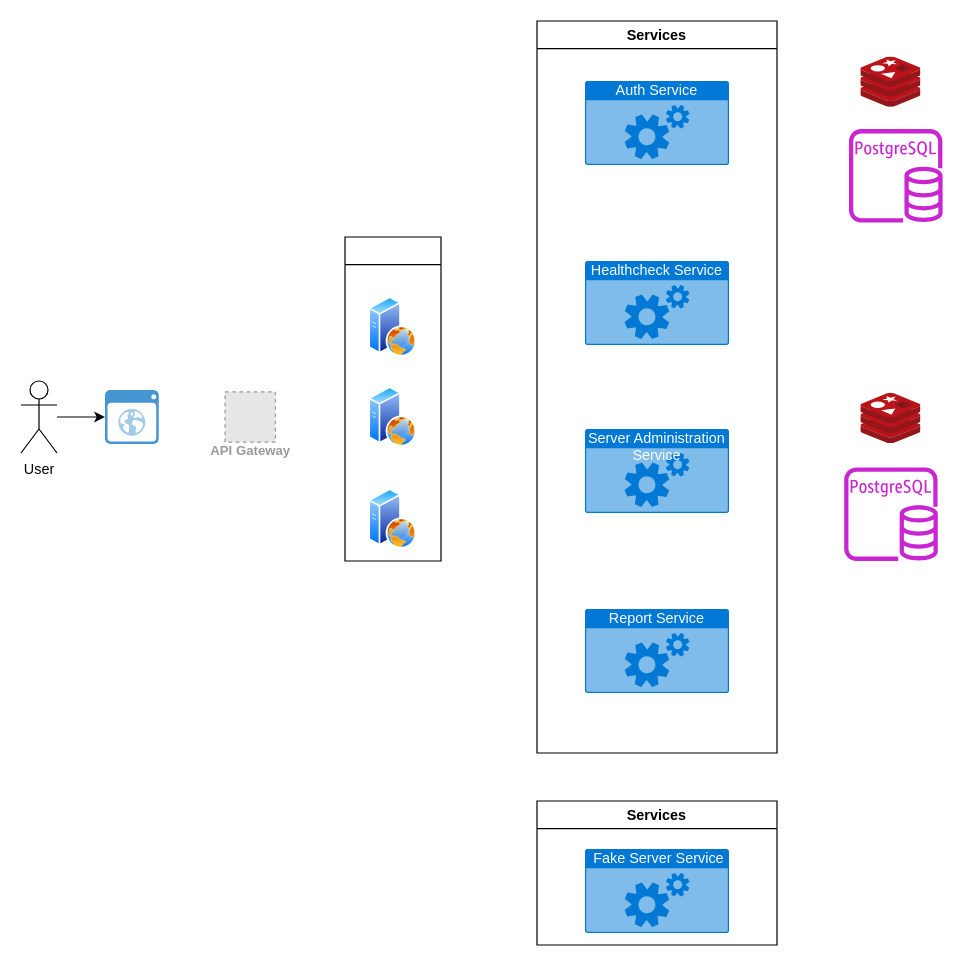
This 964x966 diagram has some shape labels left out. Grey dashed boxes stand in for pictures. Each missing label, with the box of its shape:
Servers: (344, 236, 441, 561)
Web UI: (104, 390, 158, 443)
